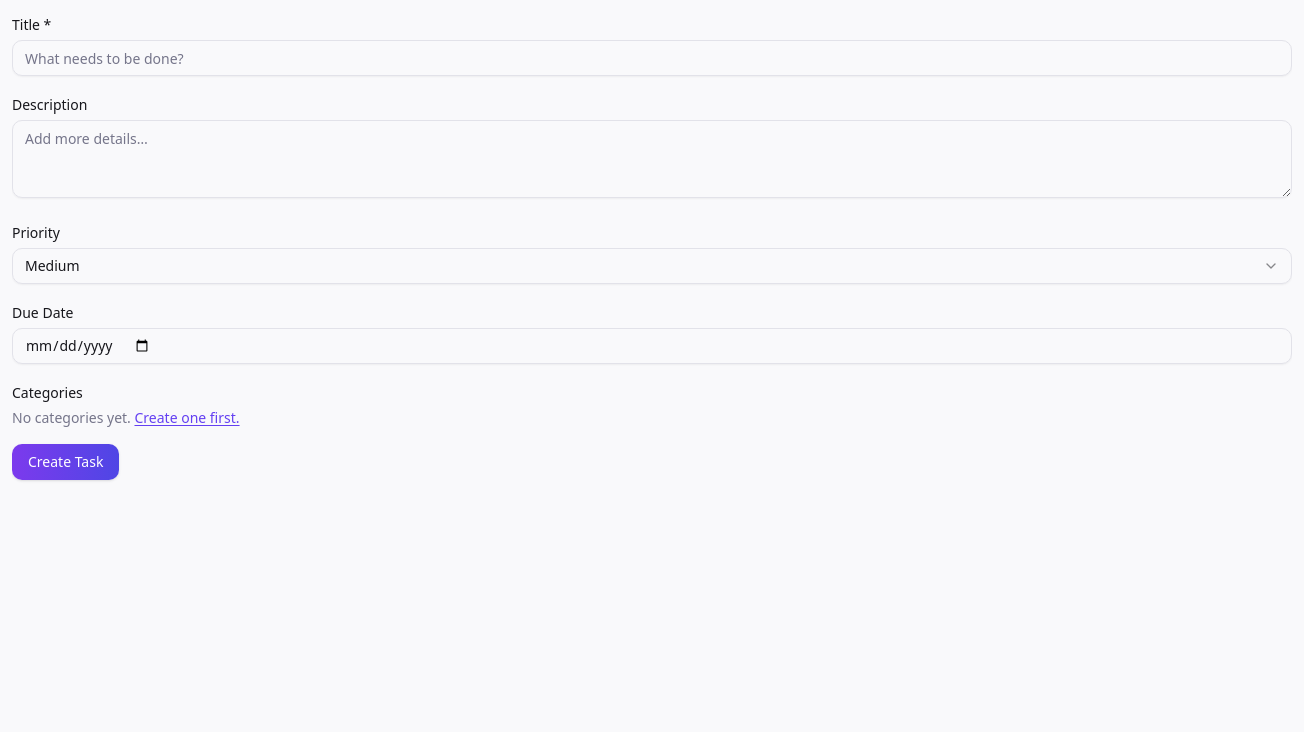
TaskForm › shows required error when title is empty on submit
Click the button with test id "task-form-submit" at (66, 462), box [12,444,119,480]
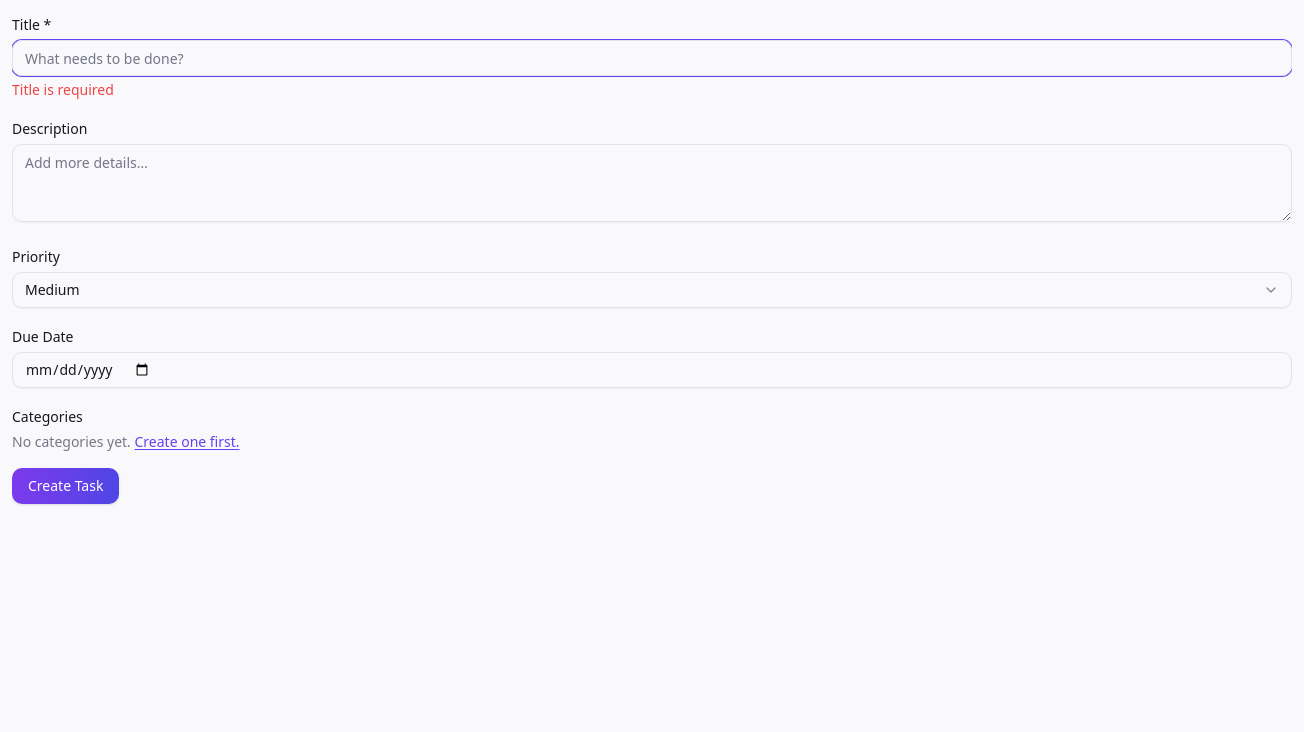
Expected: the message reads "Title is required", [12,80,114,99]
